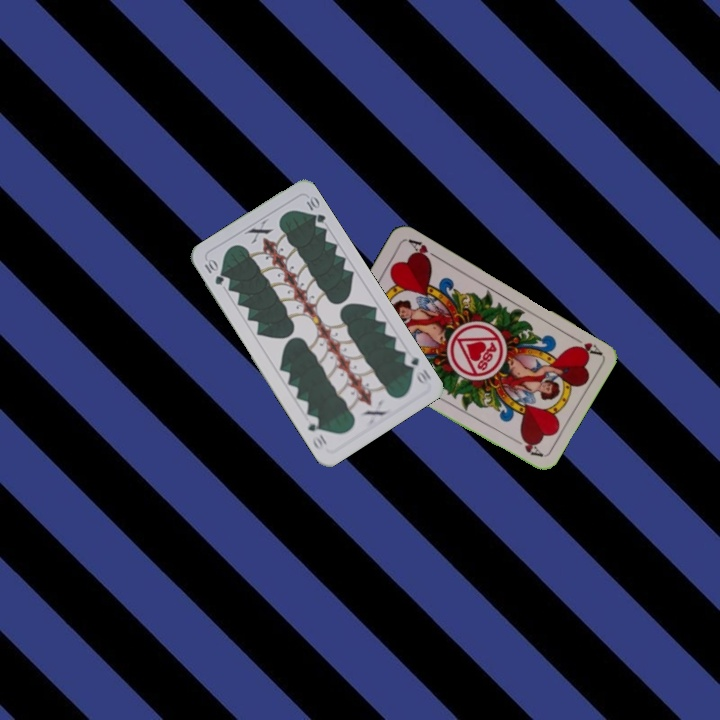G10: (400, 352, 434, 388), (200, 255, 227, 287)
HA: (566, 331, 604, 359)
